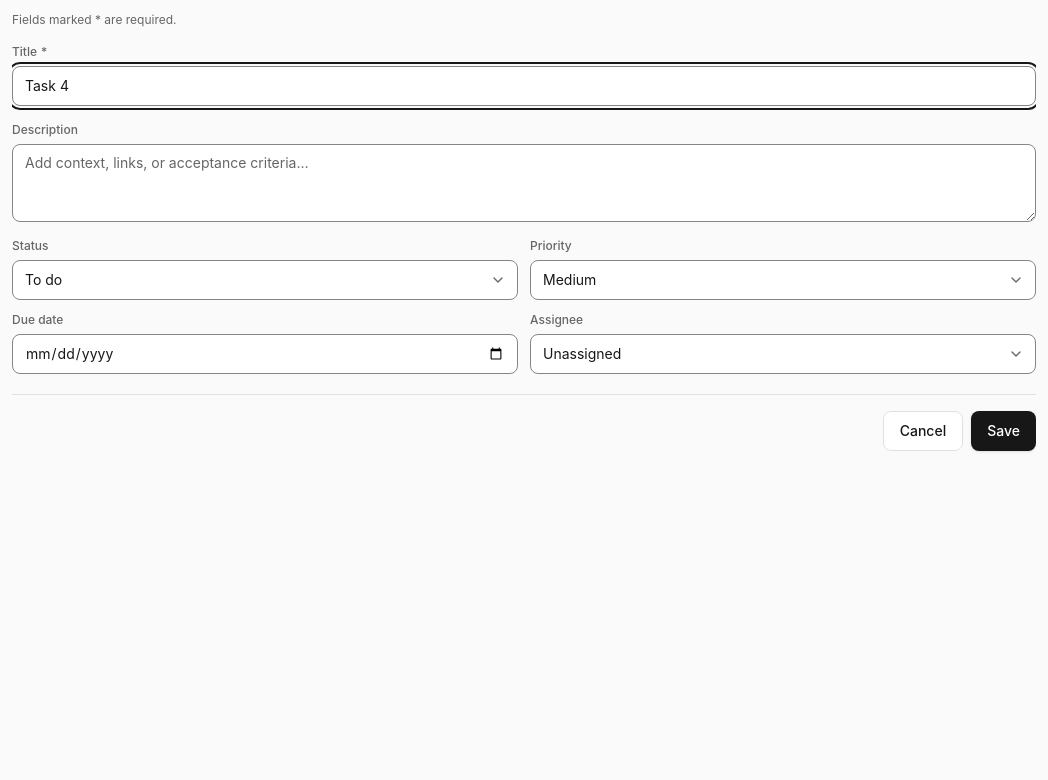
it: TaskForm › shows a failed conflict reload and lets the user retry
Click the button "Save" at x=1004, y=431, box left=971, top=411, right=1036, bottom=451
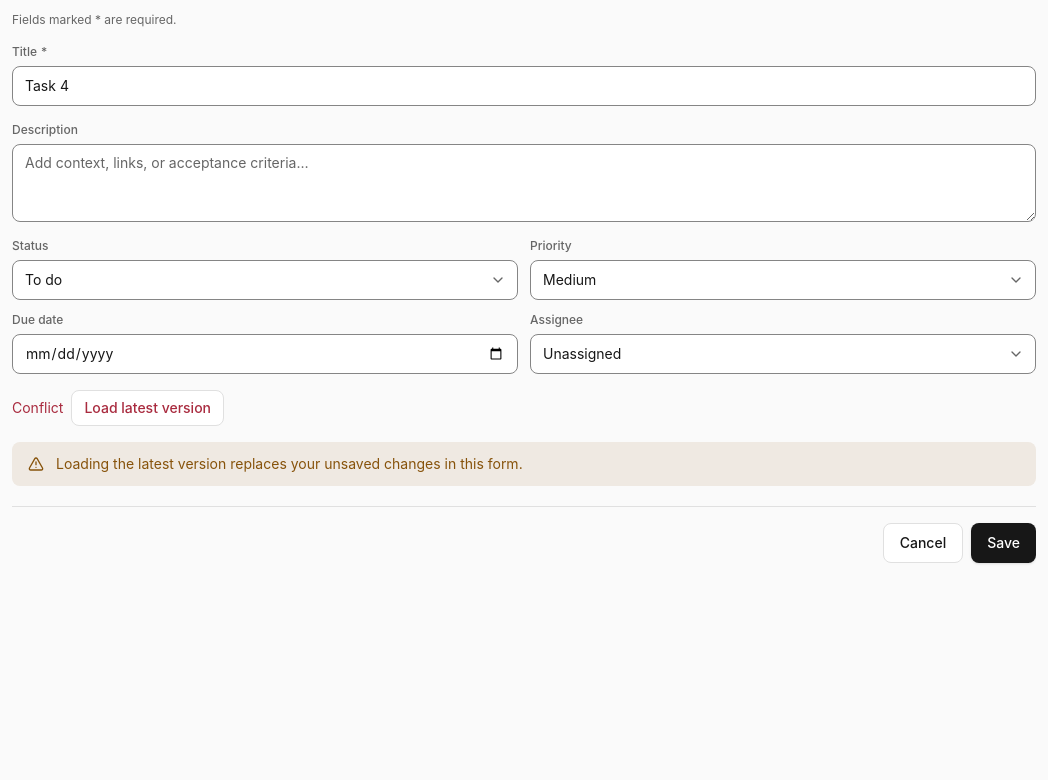
Click the button "Load latest version" at x=148, y=408, box left=71, top=390, right=224, bottom=426
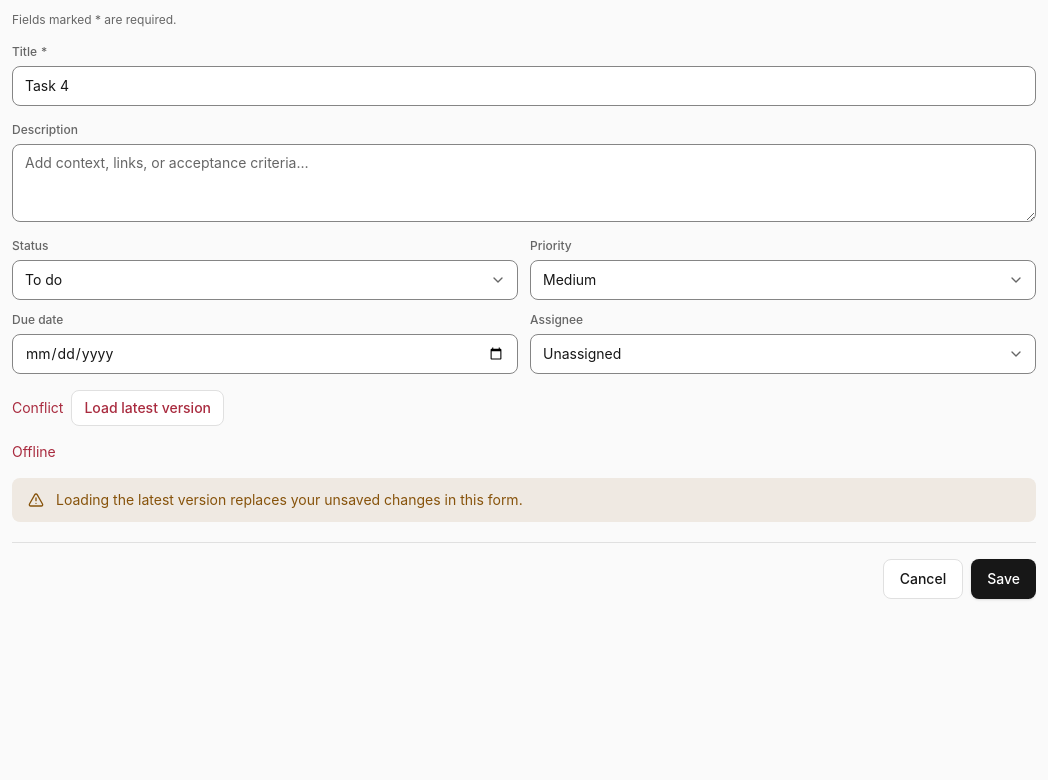
Click the button "Load latest version" at x=148, y=408, box left=71, top=390, right=224, bottom=426
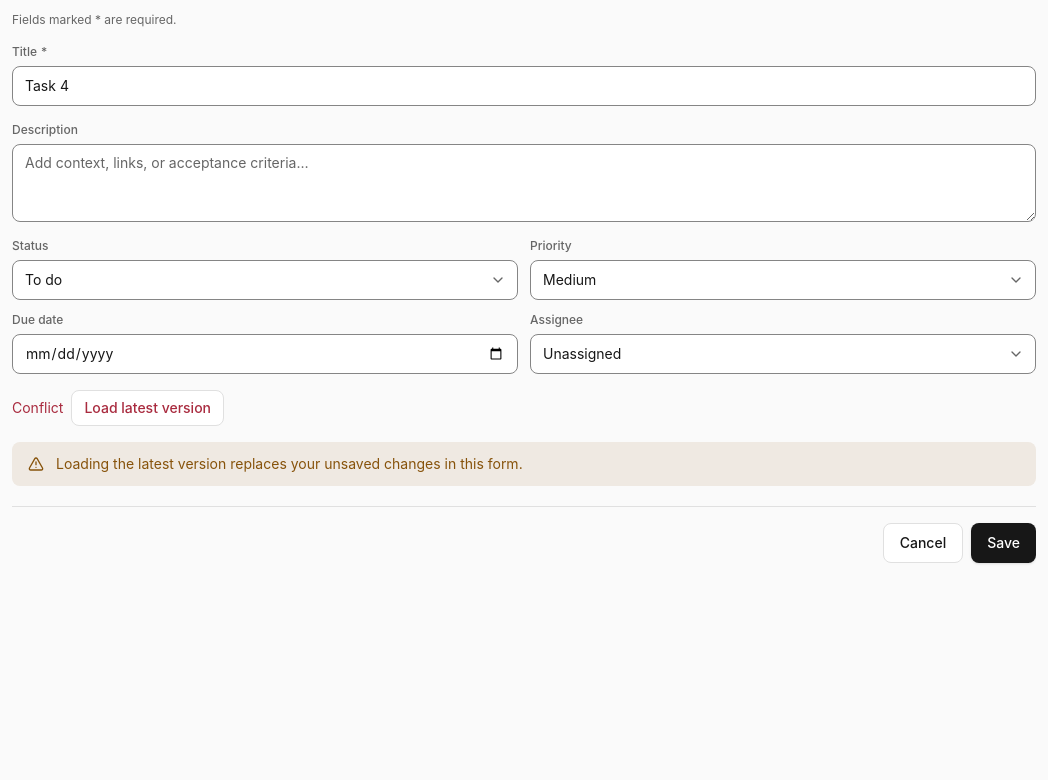
Check: the text "Offline" is gone
